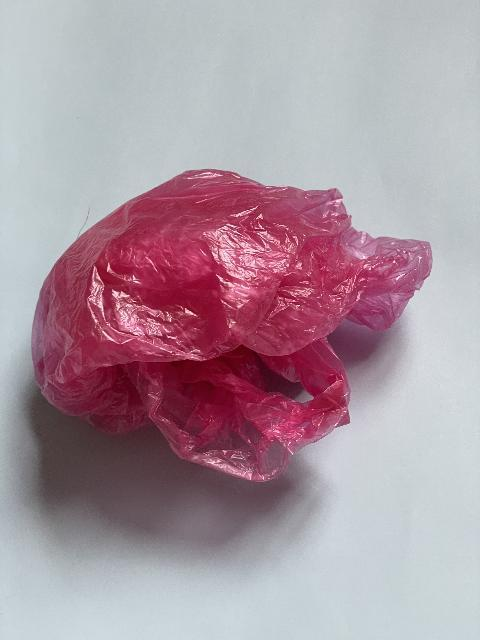plasticbag: (29, 167, 435, 486)
